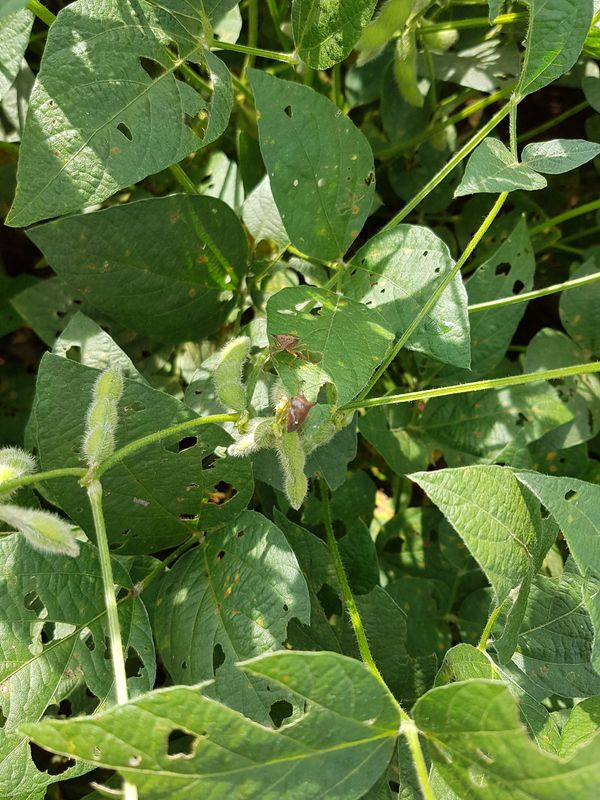Euschistus_heros_adulto: (249, 315, 315, 376), (266, 384, 329, 446)
